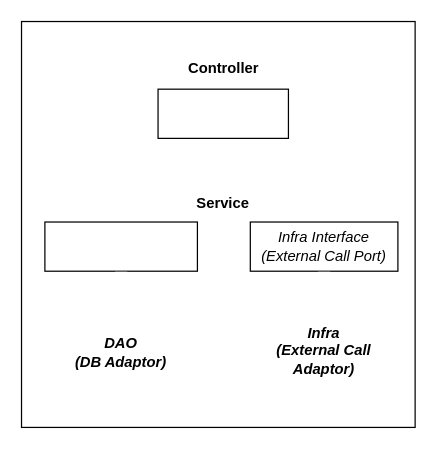
Image size: 437x449. Some labels were removed from this diagram. Here are the shapes that lost their labels. From the top down, the centre of each, then its label:
At point 222,113: "Service Interface".
At point 120,246: "DAO Interface (DB Port)".
